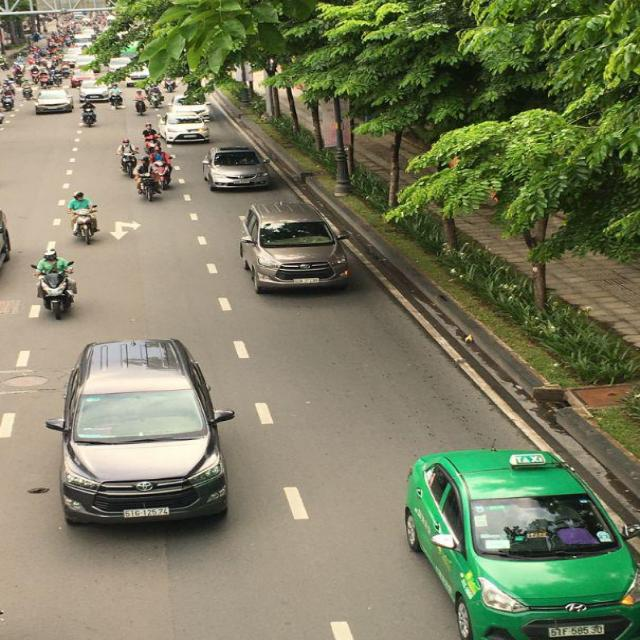car: (395, 448, 639, 638), (59, 338, 236, 526), (239, 202, 354, 296), (206, 146, 271, 192), (162, 104, 211, 145), (34, 89, 74, 114), (80, 80, 120, 102)
motorcycle: (33, 269, 75, 319), (67, 206, 97, 244), (136, 176, 159, 202), (120, 154, 137, 176), (82, 107, 98, 128)
